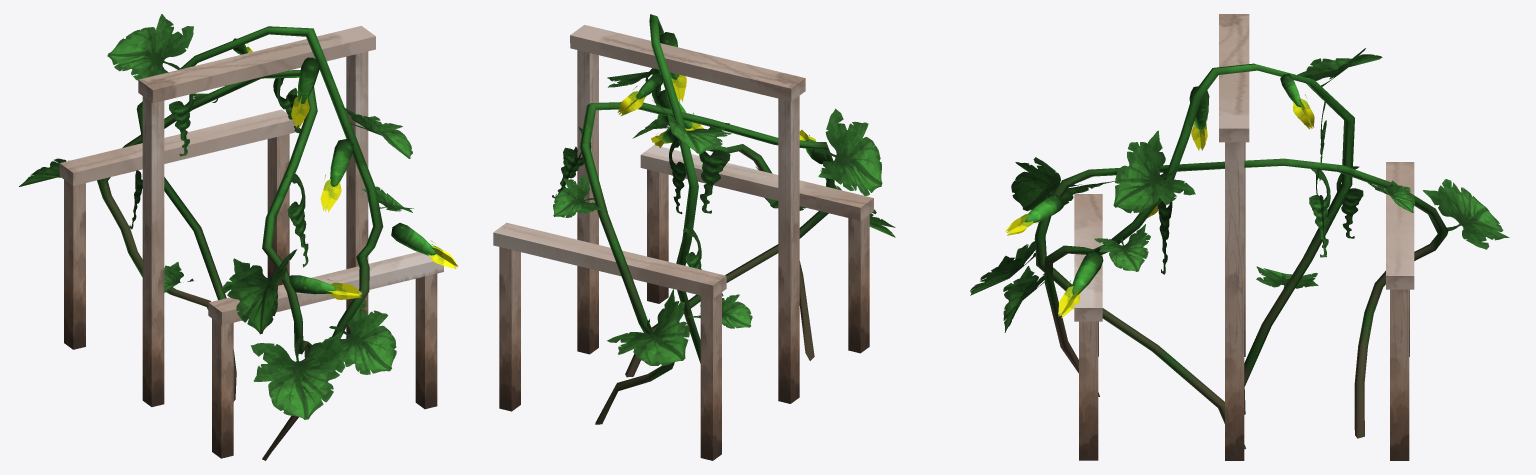
File: cucumber_stage2.FBX
3 views of the same model, side by side, from view 1: azimuth 30°, elevation 25°; view 2: azimuth 150°, elevation 25°; view 3: azimuth 270°, elevation 25° (orthographic). The views are drawn at different scales.
Visible parts, largest first — view 1: cucumber_stage2; view 2: cucumber_stage2; view 3: cucumber_stage2.
Boxes of the visible parts, x1,y1,x2,y2 form: cucumber_stage2: (19, 14, 457, 460); cucumber_stage2: (493, 14, 895, 460); cucumber_stage2: (970, 14, 1509, 460).
Size of the model in its own units: 2.8 by 3.76 by 5.12.
Materials: 1 (1 with a texture image).
